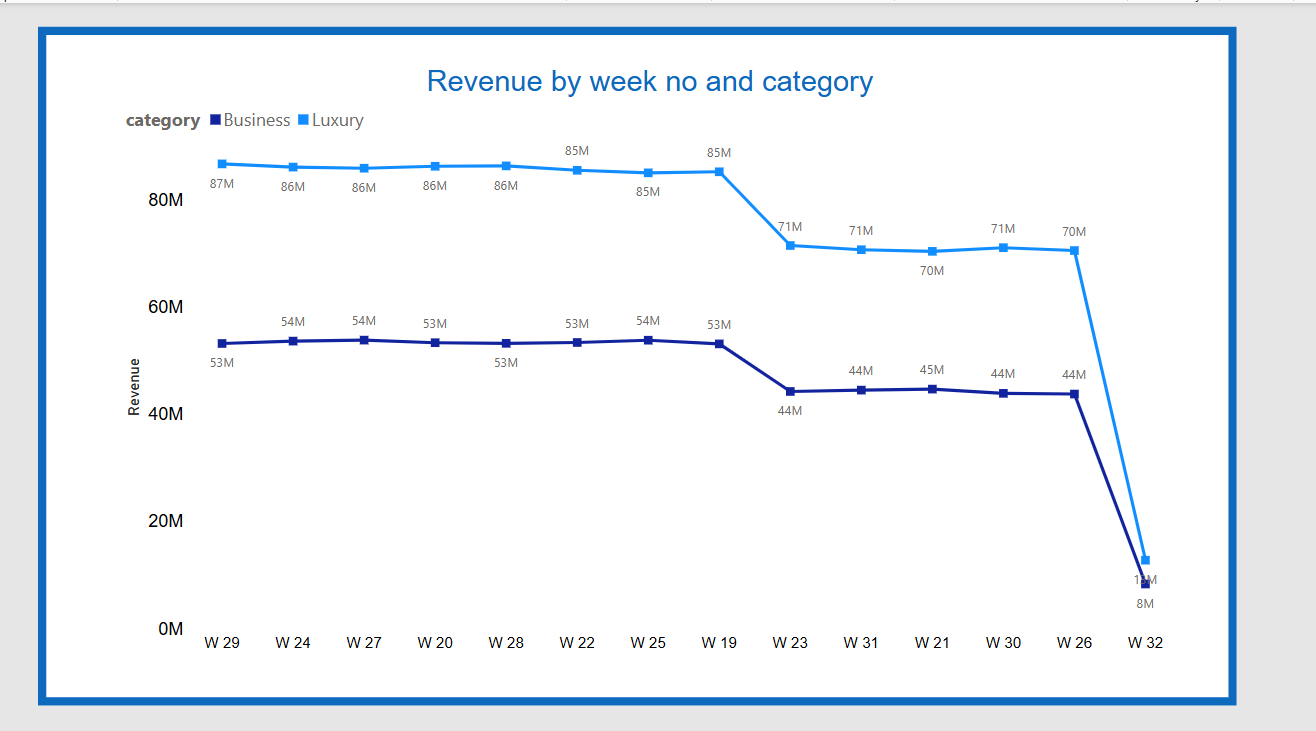

The page's visual inventory and layout, read from the dashboard file:
{"tool":"powerbi","page":{"name":"Toltip revenue trend","canvas":[1280,720],"ordinal":1},"visuals":[{"type":"shape","box":[43.4,22.9,1157,655.1],"z":0},{"type":"lineChart","fields":{"Y":["key_measure.Revenue"],"Category":["dim_date.week no"],"Series":["dim_hotels.category"]},"box":[123.1,59.1,1021.9,575.5],"z":1000}]}

Visuals, with their boxes in screenshot pixels (x1, y1, x2, y2), scaled from the page's 1280x720 canvas onto the 1316x731 screenshot:
shape: Rect(45, 23, 1234, 688)
lineChart - key_measure.Revenue x dim_date.week no: Rect(127, 60, 1177, 644)
